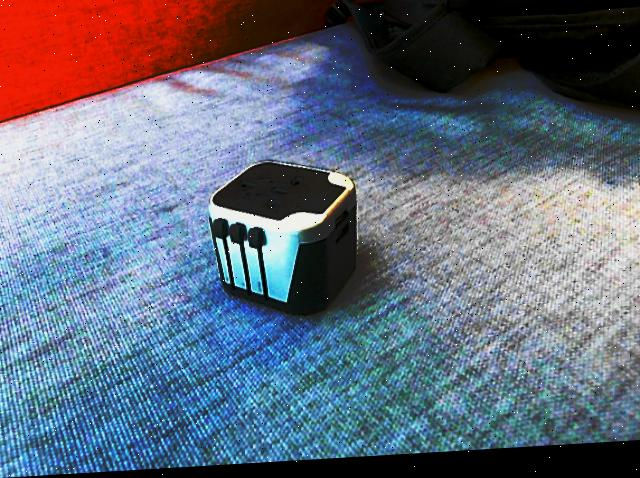adapter: (208, 159, 356, 324)
